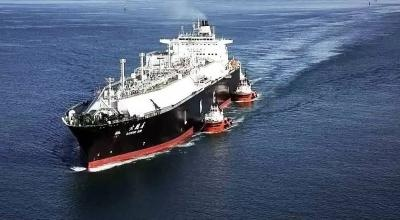Cargoship: (58, 21, 256, 174)
